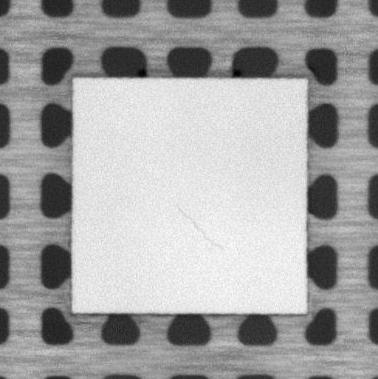DIE_CRACK: (176, 205, 224, 250)
